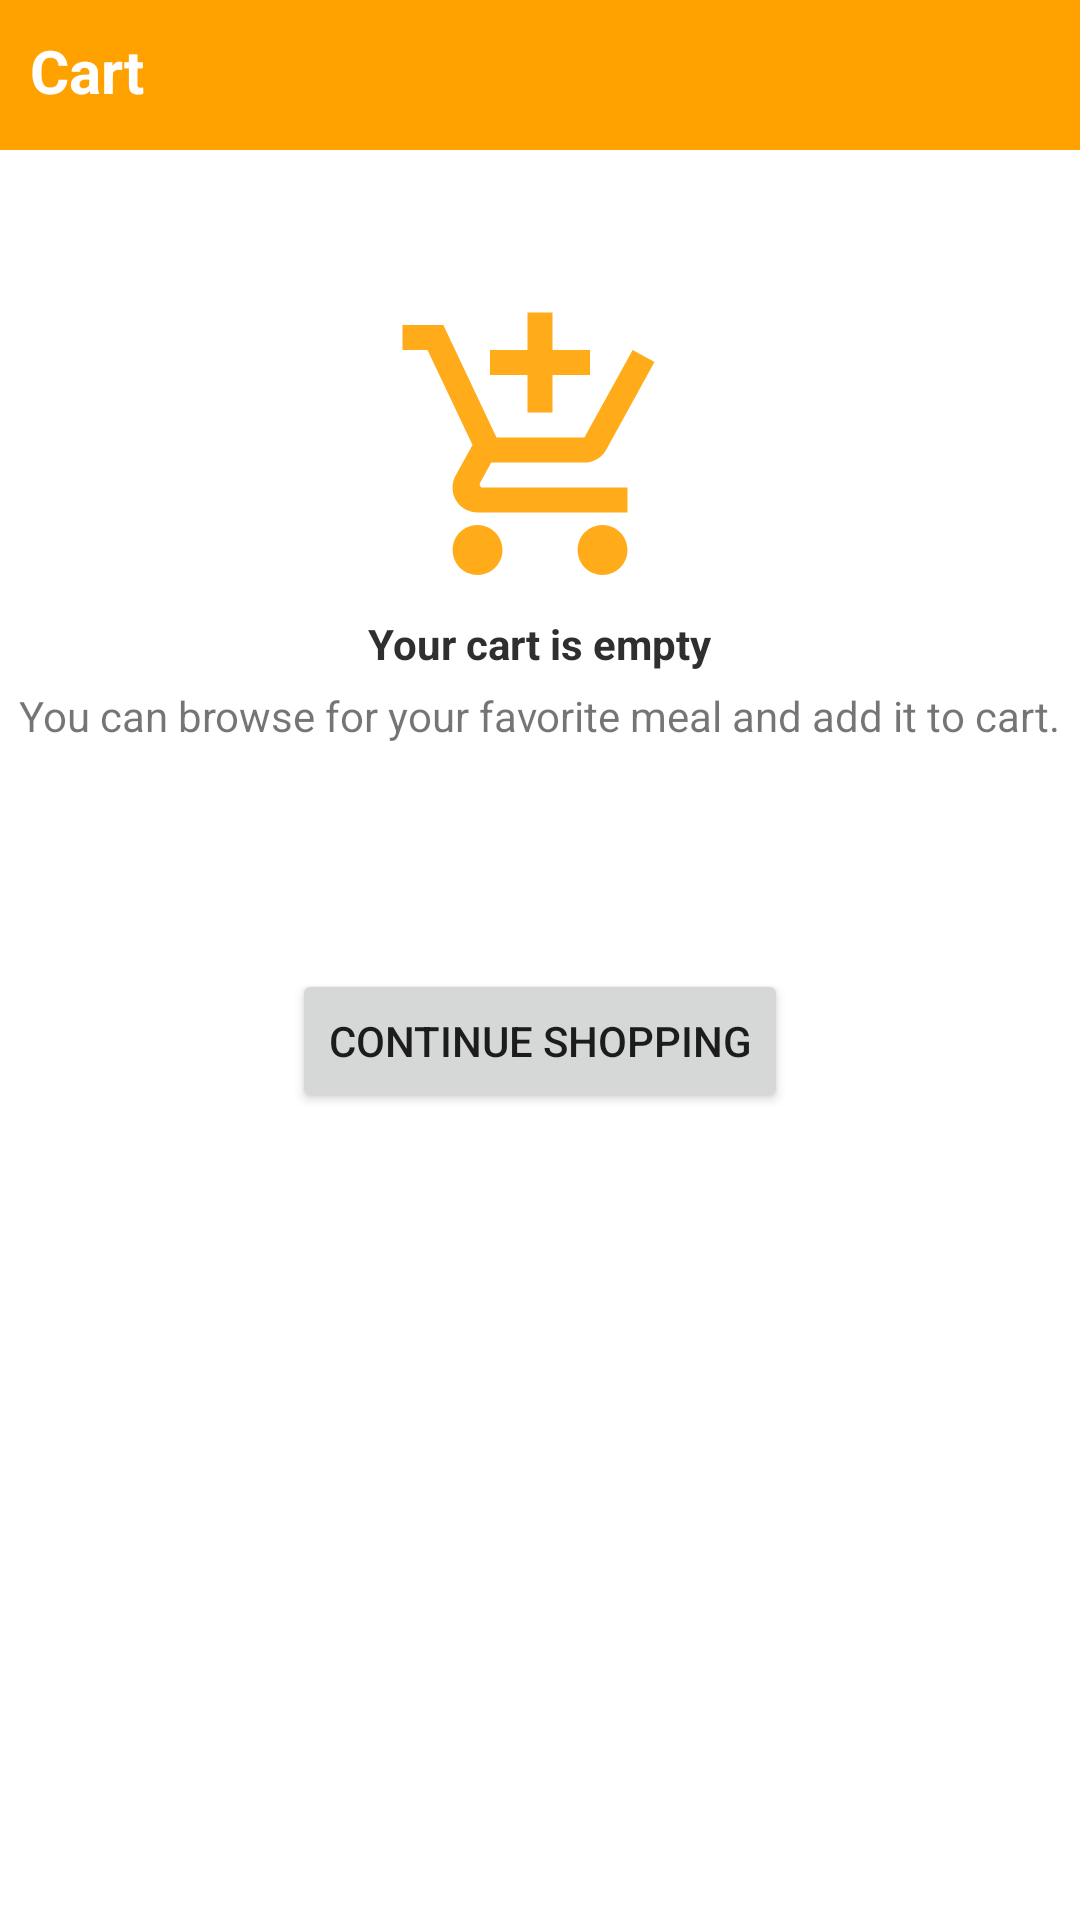

Where icons sit on this 1080px x 1920px app screen, as (x1, y1, x2, y2):
add shopping cart: (402, 312, 655, 575)
